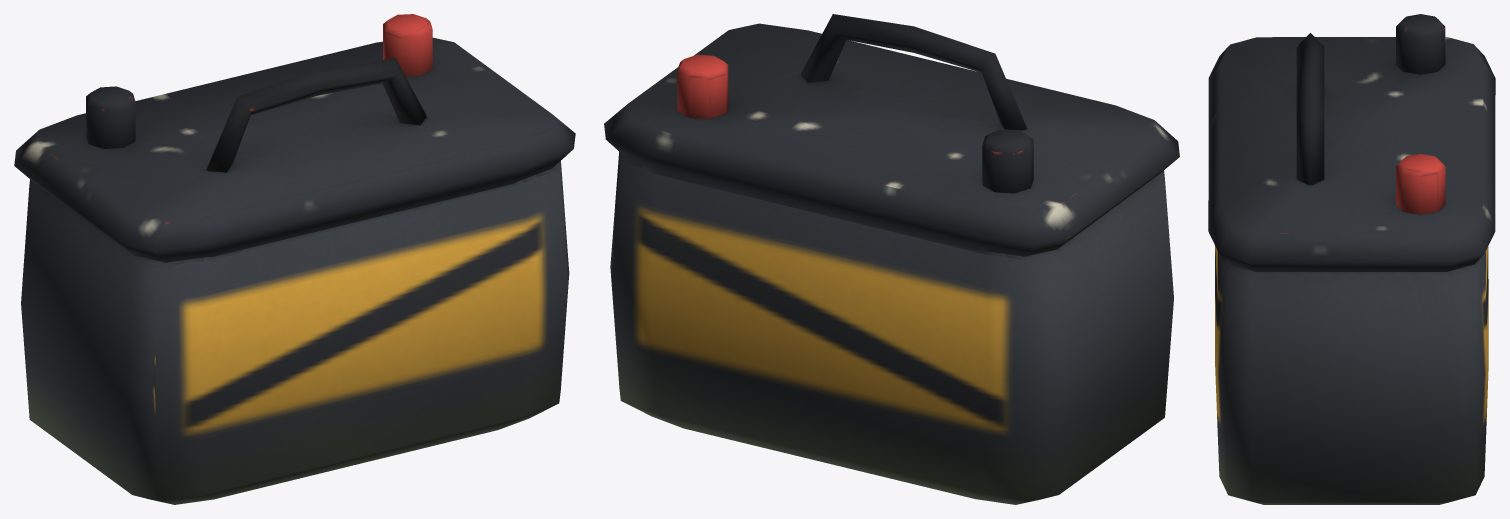
The model's file is Bateria.fbx.
3 renders of one model, left to right at view 1: azimuth 30°, elevation 25°; view 2: azimuth 150°, elevation 25°; view 3: azimuth 270°, elevation 25°, orthographic. The views are drawn at different scales.
Visible parts, largest first — view 1: Malla; view 2: Malla; view 3: Malla.
Part boxes in pixels (bbox=[...]): Malla: bbox=[14, 14, 575, 504]; Malla: bbox=[604, 14, 1179, 504]; Malla: bbox=[1208, 14, 1495, 504].
Bounding box in the file's own units: 0.3671 × 0.2855 × 0.2083.
1 material, 1 textured.
